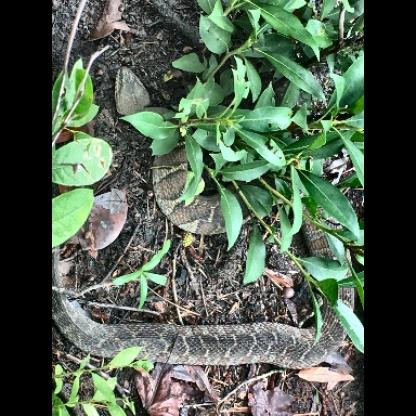Snake: (116, 66, 252, 242), (56, 308, 346, 369)
